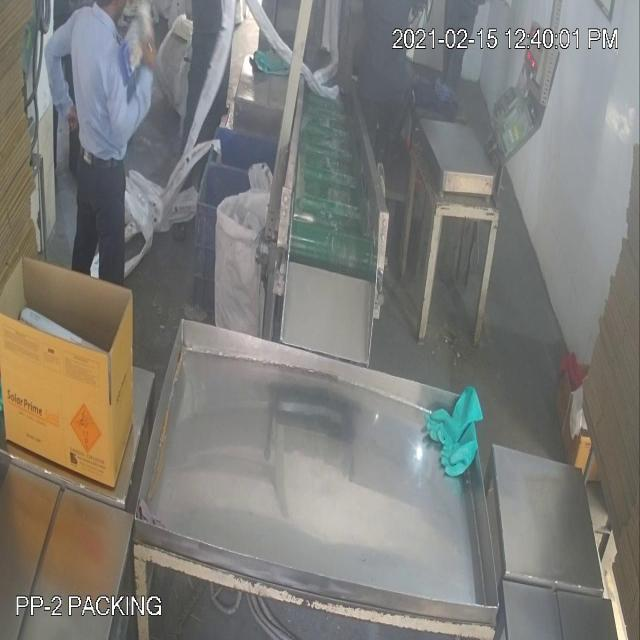gloves: (424, 384, 488, 485)
no-gloves: (91, 24, 161, 146), (38, 28, 83, 146)
